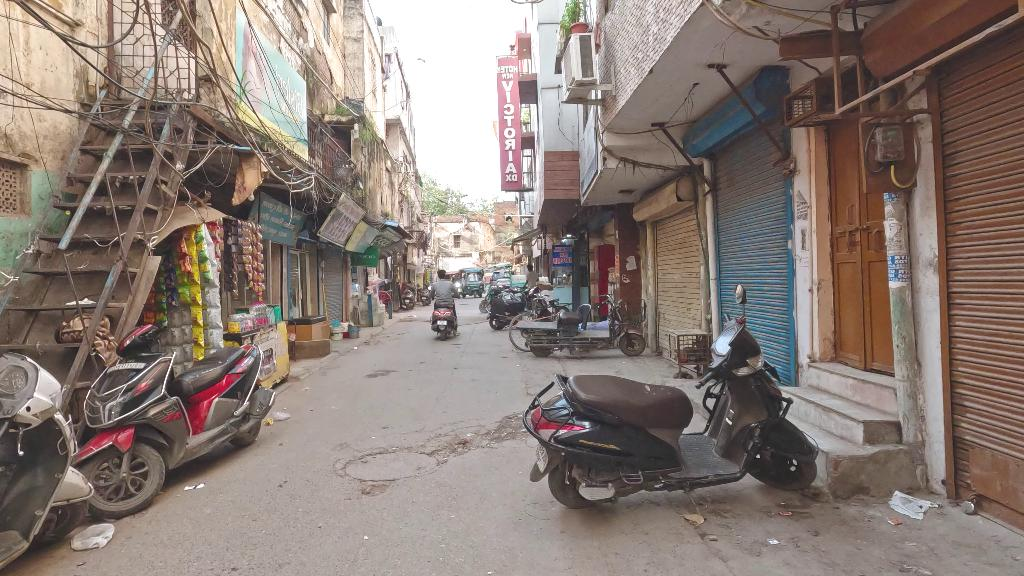garbage: (884, 485, 935, 524), (65, 514, 116, 550)
